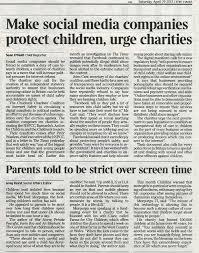Printing industry: (2, 3, 199, 253)
